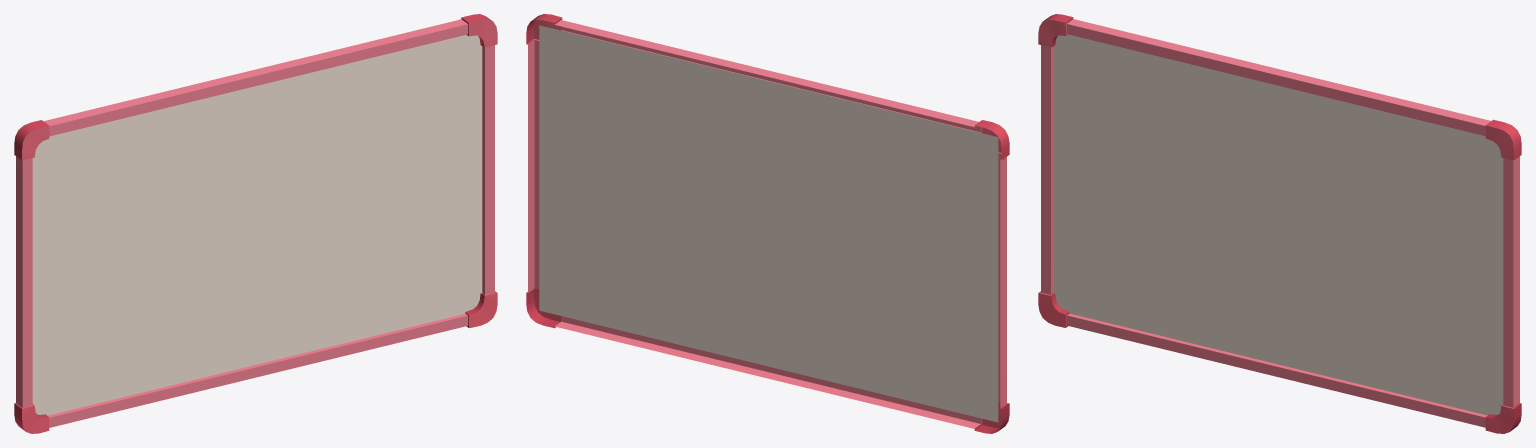
Rendered from Doll_OB_BlackWall_001.fbx.
3 renders of one model, left to right at view 1: azimuth 30°, elevation 25°; view 2: azimuth 150°, elevation 25°; view 3: azimuth 330°, elevation 25°, orthographic.
Parts seen in each view (by area): view 1: Doll_OB_BlackWall_001_1, Doll_OB_BlackWall_001; view 2: Doll_OB_BlackWall_001_1, Doll_OB_BlackWall_001; view 3: Doll_OB_BlackWall_001_1, Doll_OB_BlackWall_001.
Boxes of the visible parts, left/top/right/bottom form: Doll_OB_BlackWall_001_1: left=32, top=35, right=482, bottom=415; Doll_OB_BlackWall_001: left=14, top=14, right=497, bottom=433; Doll_OB_BlackWall_001_1: left=539, top=25, right=998, bottom=422; Doll_OB_BlackWall_001: left=526, top=14, right=1009, bottom=433; Doll_OB_BlackWall_001_1: left=1053, top=34, right=1503, bottom=415; Doll_OB_BlackWall_001: left=1038, top=14, right=1521, bottom=433.
Bounding box in the file's own units: 130 × 79.67 × 3.78.
1 material, 1 textured.
